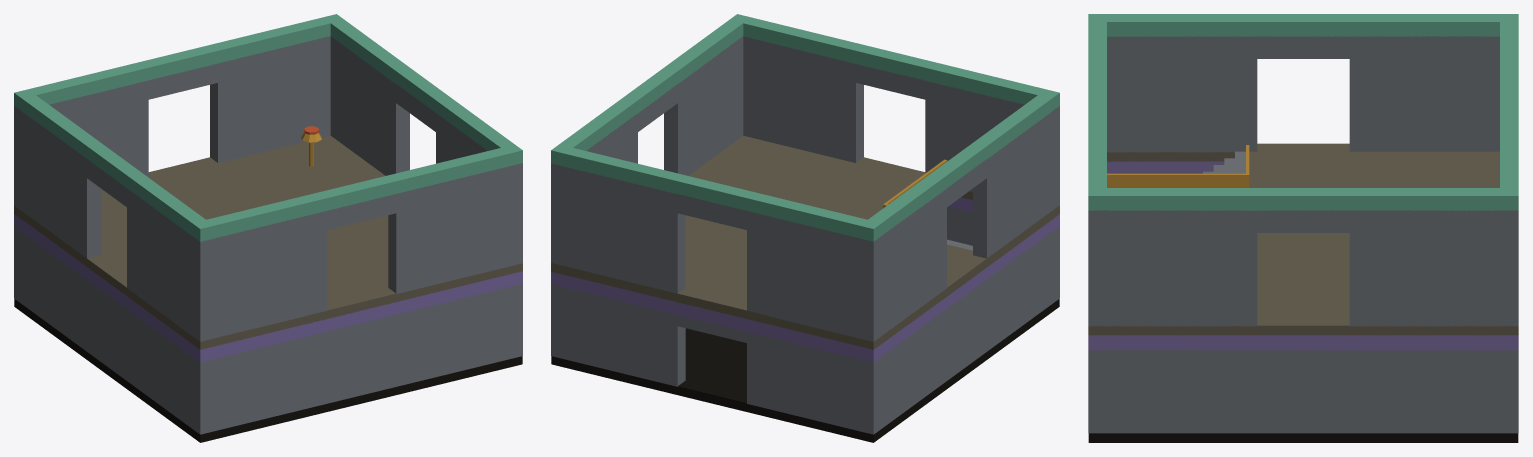
File: MedievalStairDown.fbx
3 views of the same model, side by side, from view 1: azimuth 30°, elevation 25°; view 2: azimuth 150°, elevation 25°; view 3: azimuth 270°, elevation 25° (orthographic). The views are drawn at different scales.
Visible parts, largest first — view 1: MedievalStairDown; view 2: MedievalStairDown; view 3: MedievalStairDown.
Boxes of the visible parts, x1,y1,x2,y2 form: MedievalStairDown: [14, 14, 522, 442]; MedievalStairDown: [551, 14, 1059, 442]; MedievalStairDown: [1088, 14, 1518, 442].
Size of the model in its own units: 1202 by 762 by 1202.
Materials: 7 (7 with a texture image).
